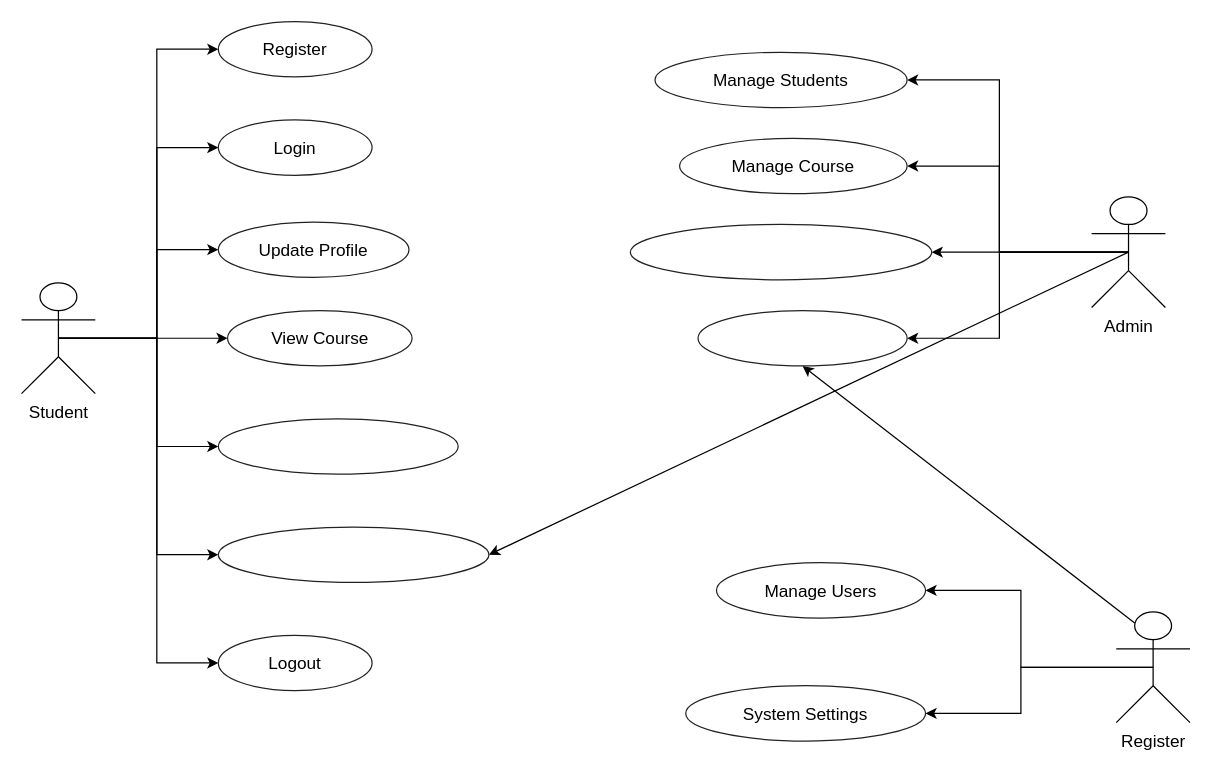
This 1212x774 diagram has some shape labels left out. Each missing label, with the box of its shape:
Generate Users: (697, 309, 907, 366)
Manage Registrations: (629, 223, 932, 280)
Register for course: (217, 418, 458, 474)
View Registration Status: (217, 526, 489, 582)
